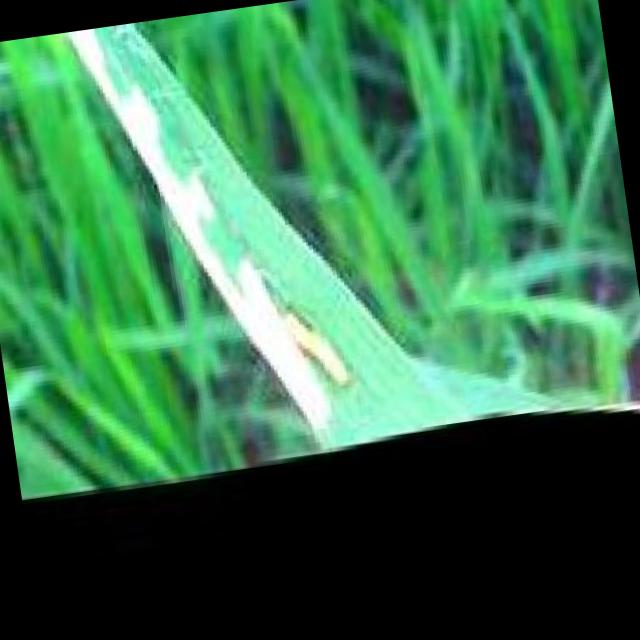leaf-folder: (266, 266, 362, 400)
